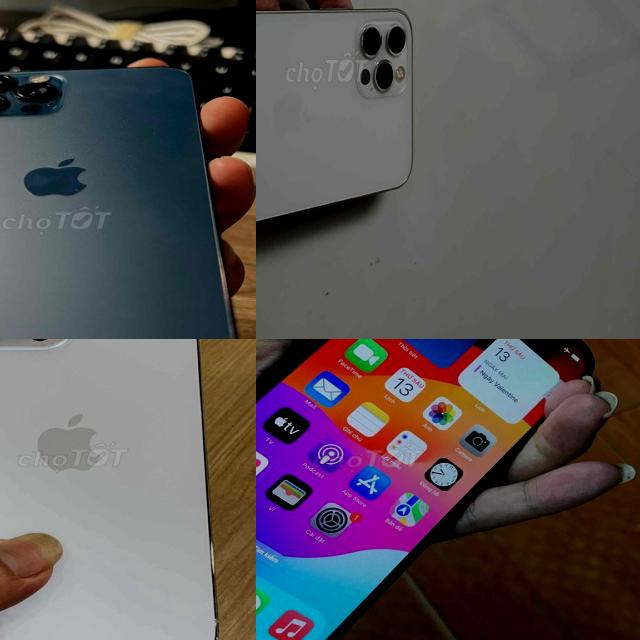gen_12_13: (256, 339, 601, 640), (0, 63, 252, 339), (256, 0, 418, 264)
gen_14: (0, 339, 224, 640)
